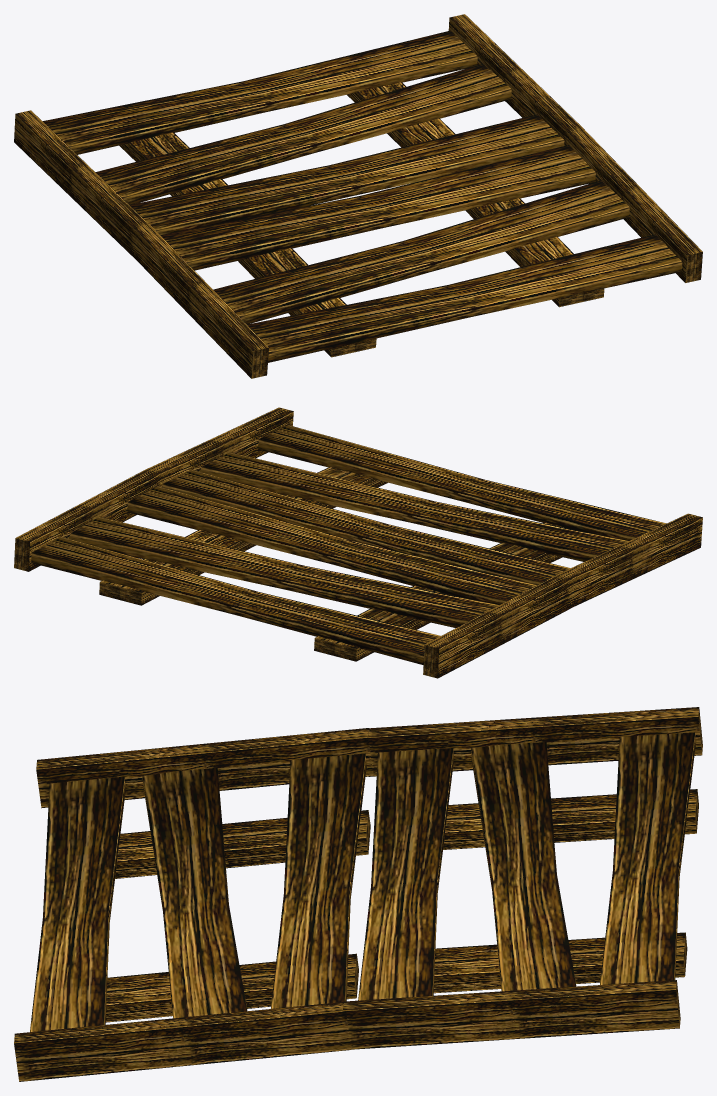
The model's file is RM_WPOOL_PLATFORM01.fbx.
The picture shows the model from 3 angles, top to bottom: view 1: azimuth 30°, elevation 25°; view 2: azimuth 150°, elevation 25°; view 3: azimuth 270°, elevation 25°; orthographic projection. The views are drawn at different scales.
Parts seen in each view (by area): view 1: RM_WPOOL_PLATFORM01; view 2: RM_WPOOL_PLATFORM01; view 3: RM_WPOOL_PLATFORM01.
Boxes of the visible parts, x1,y1,x2,y2 form: RM_WPOOL_PLATFORM01: (14, 14, 702, 378); RM_WPOOL_PLATFORM01: (14, 407, 702, 678); RM_WPOOL_PLATFORM01: (14, 707, 702, 1081).
Size of the model in its own units: 37027 by 6343 by 37063.
1 material, 1 textured.
